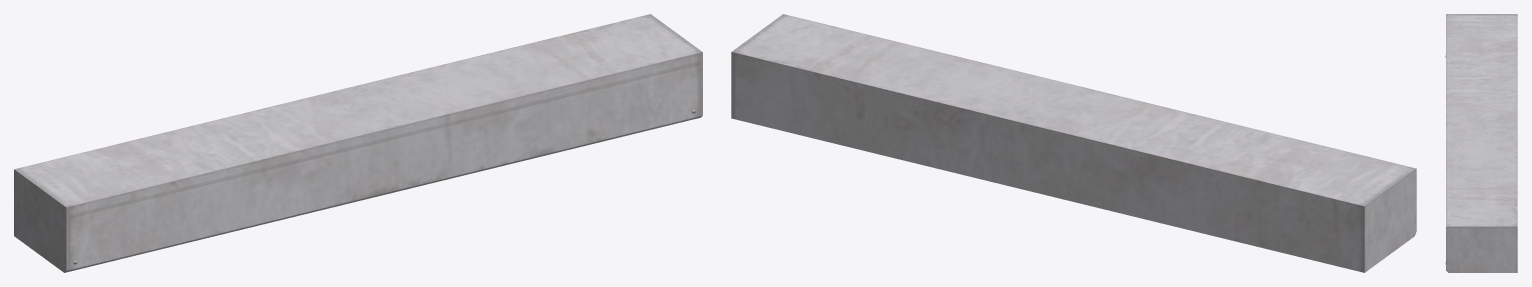
Rendered from tabakeve-shutter-cassette-v1.glb.
3 views of the same model, side by side, from view 1: azimuth 30°, elevation 25°; view 2: azimuth 150°, elevation 25°; view 3: azimuth 270°, elevation 25° (orthographic). The views are drawn at different scales.
Visible parts, largest first — view 1: tabakeve_shutter_cassette; view 2: tabakeve_shutter_cassette; view 3: tabakeve_shutter_cassette.
Boxes of the visible parts, x1,y1,x2,y2 form: tabakeve_shutter_cassette: (14,14,702,272); tabakeve_shutter_cassette: (731,14,1416,272); tabakeve_shutter_cassette: (1445,14,1517,272).
Size of the model in its own units: 2.1 by 0.2107 by 0.3001.
1 material, 1 textured.
